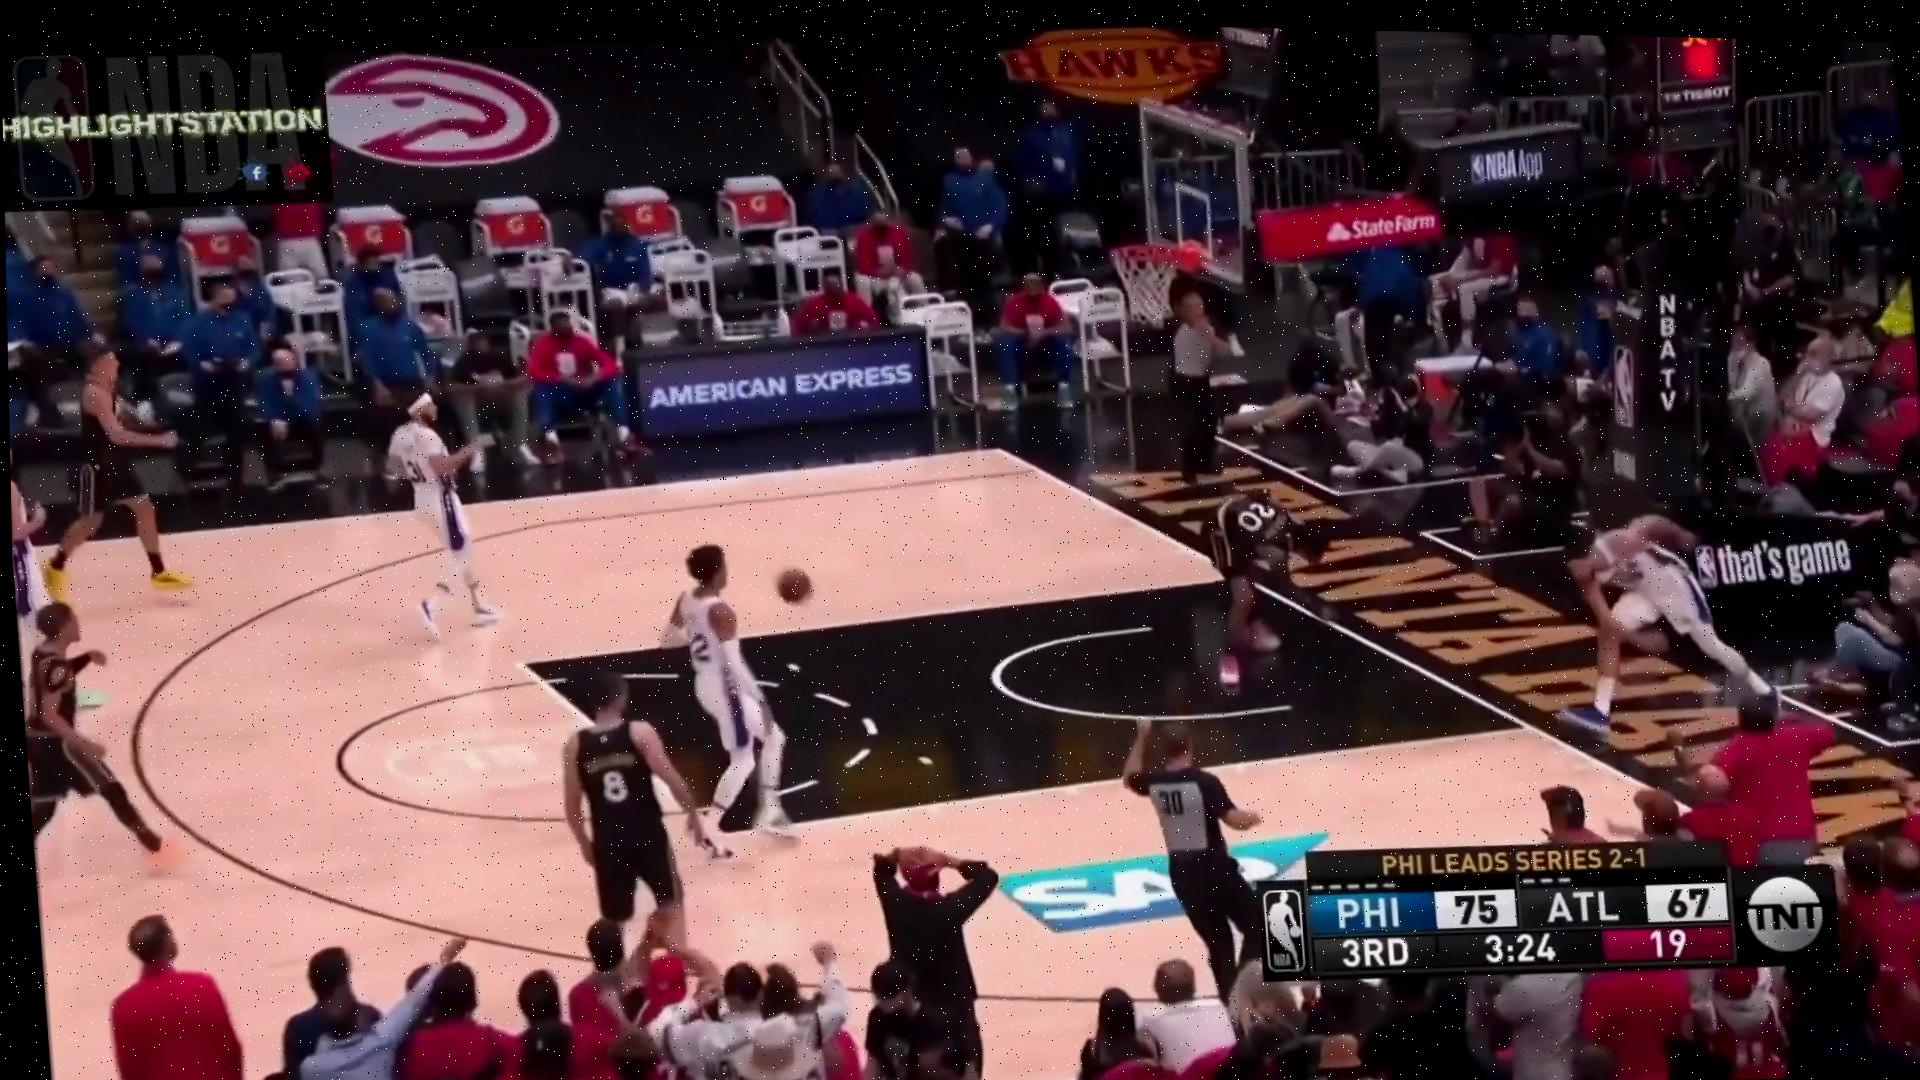no_foul: (536, 529, 810, 918)
